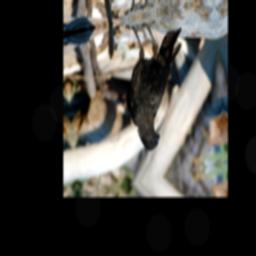Crow: (118, 13, 192, 157)
